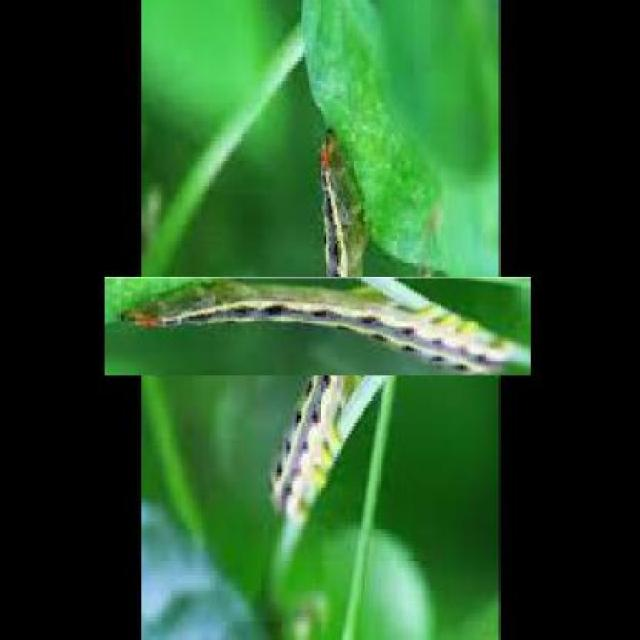Plaga: (188, 197, 452, 460)
